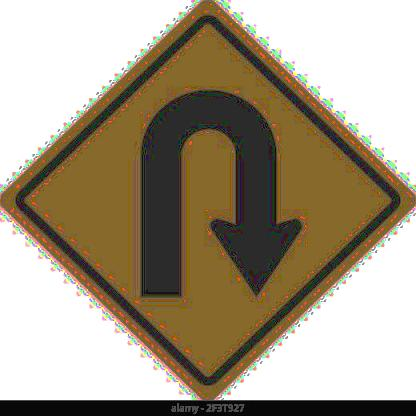U-turn: (3, 0, 411, 398)
